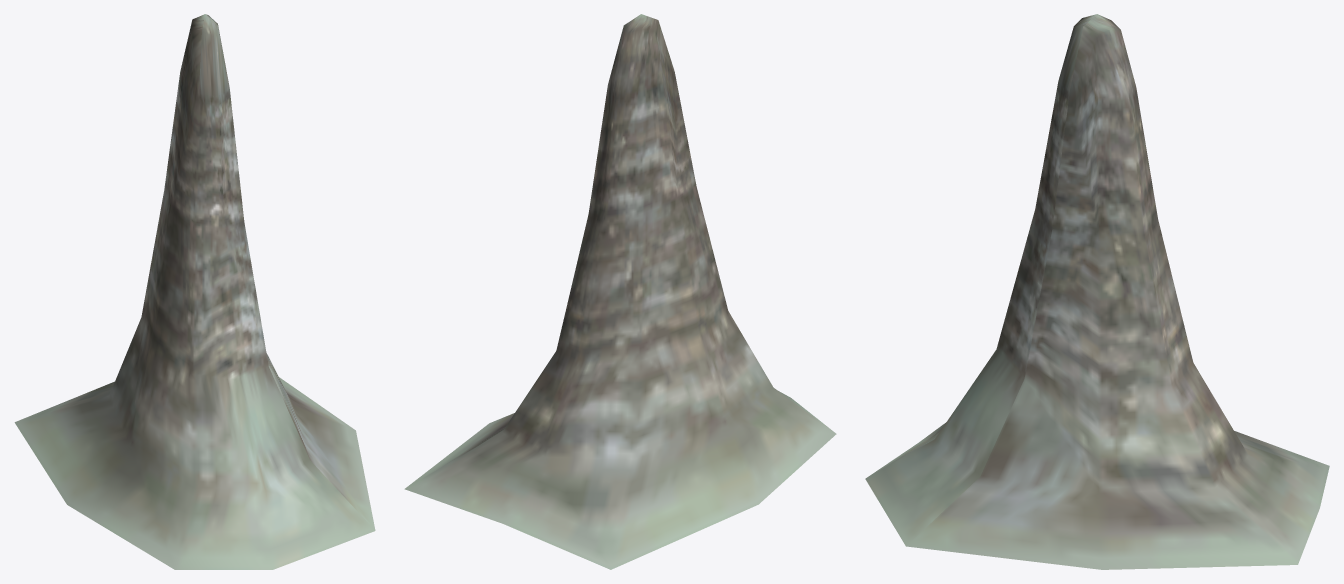
The model's file is TROLLHOLE02_PS-UPPERSTALAG03.fbx.
The picture shows the model from 3 angles, left to right: view 1: azimuth 30°, elevation 25°; view 2: azimuth 150°, elevation 25°; view 3: azimuth 270°, elevation 25°; orthographic projection. The views are drawn at different scales.
Visible parts, largest first — view 1: TROLLHOLE02_PS-UPPERSTALAG03; view 2: TROLLHOLE02_PS-UPPERSTALAG03; view 3: TROLLHOLE02_PS-UPPERSTALAG03.
Part boxes in pixels (<box>): TROLLHOLE02_PS-UPPERSTALAG03: <box>14,14,375,569</box>; TROLLHOLE02_PS-UPPERSTALAG03: <box>404,14,836,569</box>; TROLLHOLE02_PS-UPPERSTALAG03: <box>865,14,1329,569</box>.
Bounding box in the file's own units: 11152 × 17724 × 15148.
Materials: 1 (1 with a texture image).
